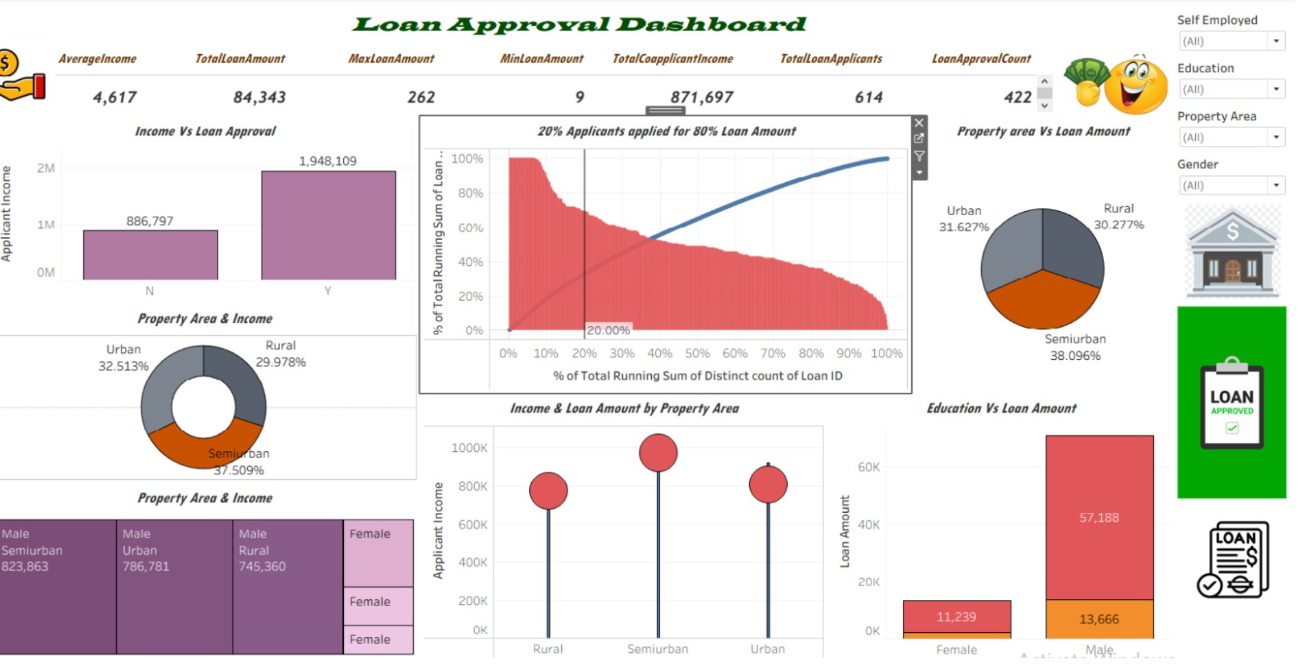

The dashboard page shown, as its layout file describes it:
{"tool":"tableau","page":{"name":"Dashboard 1","canvas":[1000,1000],"units":"permille","ordinal":0},"visuals":[{"type":"text","box":[4.9,9.5,901.3,47.3]},{"type":"filter","title":"BarGraph","param":"[federated.0y1h9950c4fj8t14blxxc1n4arbq].[none:Self_Employed:nk]","box":[906.1,9.5,89,72.2]},{"type":"worksheet","title":"KPI","mark":"Automatic","box":[4.9,56.8,901.3,114.8]},{"type":"image","param":"D:/Neha_FCT_trainer/Tableau/image4.jfif","box":[816,72.2,91.4,103]},{"type":"filter","title":"BarGraph","param":"[federated.0y1h9950c4fj8t14blxxc1n4arbq].[none:Education:nk]","box":[906.1,81.7,89,72.2]},{"type":"filter","title":"BarGraph","param":"[federated.0y1h9950c4fj8t14blxxc1n4arbq].[none:Property_Area:nk]","box":[906.1,153.8,89,72.2]},{"type":"worksheet","title":"BarGraph","mark":"Automatic","rows":["ApplicantIncome"],"cols":["Loan_Status"],"box":[4.9,171.6,328.4,280.5]},{"type":"worksheet","title":"ParetoChart","mark":"Area","rows":["LoanAmount","LoanAmount"],"cols":["Loan_ID"],"box":[333.3,171.6,372.9,415.4]},{"type":"worksheet","title":"PieChart","mark":"Pie","box":[706.3,171.6,199.9,415.4]},{"type":"filter","title":"BarGraph","param":"[federated.0y1h9950c4fj8t14blxxc1n4arbq].[none:Gender:nk]","box":[906.1,226,89,72.2]},{"type":"image","param":"D:/Neha_FCT_trainer/Tableau/image6.png","box":[906.1,298.2,89,153.8]},{"type":"worksheet","title":"donut","mark":"Pie","rows":["Calculation_1583913080520706","Calculation_1583913080520706"],"box":[4.9,452.1,328.4,269.4]},{"type":"image","param":"D:/Neha_FCT_trainer/Tableau/image1.png","box":[906.1,452.1,89,298.2]},{"type":"worksheet","title":"LolipopChart","mark":"Automatic","rows":["ApplicantIncome","LoanAmount"],"cols":["Property_Area"],"box":[333.3,587,309,403.6]},{"type":"worksheet","title":"ClusteredBar","mark":"Automatic","rows":["LoanAmount"],"cols":["Gender"],"box":[642.3,587,263.9,403.6]},{"type":"worksheet","title":"TreeMap","mark":"Automatic","box":[4.9,721.5,328.4,269]},{"type":"image","param":"D:/Neha_FCT_trainer/Tableau/image2.png","box":[906.1,750.3,89,240.2]}]}

Visuals, with their boxes on the dashboard's canvas, which has no fixed pixel size, in thousandths of its width and height (x1, y1, x2, y2). These are canvas units, not pixel positions in the 1314x664 screenshot, which may show the page scaled, cropped or inside an application window:
text: box(5, 10, 906, 57)
"BarGraph" filter: box(906, 10, 995, 82)
"KPI" worksheet: box(5, 57, 906, 172)
image: box(816, 72, 907, 175)
"BarGraph" filter: box(906, 82, 995, 154)
"BarGraph" filter: box(906, 154, 995, 226)
"BarGraph" worksheet: box(5, 172, 333, 452)
"ParetoChart" worksheet (Area marks): box(333, 172, 706, 587)
"PieChart" worksheet (Pie marks): box(706, 172, 906, 587)
"BarGraph" filter: box(906, 226, 995, 298)
image: box(906, 298, 995, 452)
"donut" worksheet (Pie marks): box(5, 452, 333, 722)
image: box(906, 452, 995, 750)
"LolipopChart" worksheet: box(333, 587, 642, 991)
"ClusteredBar" worksheet: box(642, 587, 906, 991)
"TreeMap" worksheet: box(5, 722, 333, 990)
image: box(906, 750, 995, 990)
